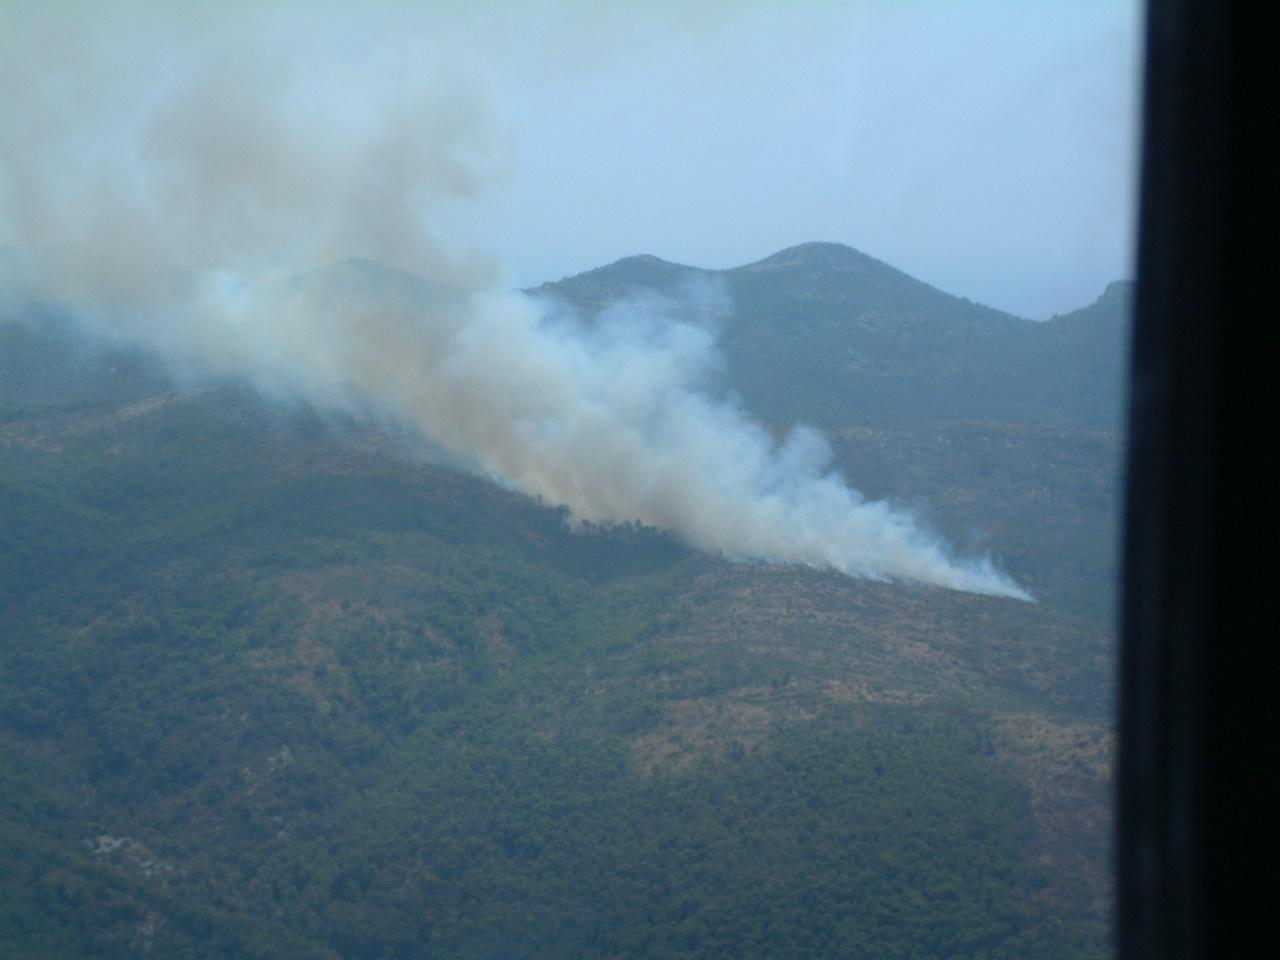Smoke: (4, 4, 1042, 605)
